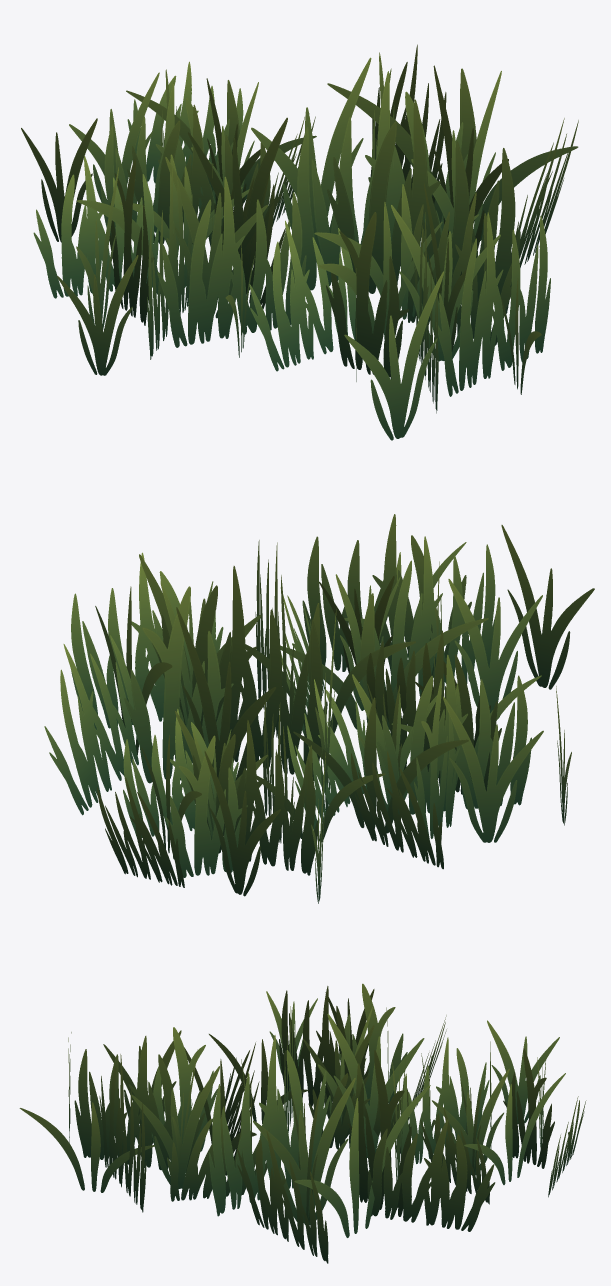
3 views of the same model, one above another, from view 1: azimuth 30°, elevation 25°; view 2: azimuth 150°, elevation 25°; view 3: azimuth 270°, elevation 25° (orthographic). The views are drawn at different scales.
Visible parts, largest first — view 1: pl-grass-tall; view 2: pl-grass-tall; view 3: pl-grass-tall.
Boxes of the visible parts, left/top/right/bottom form: pl-grass-tall: left=21, top=44, right=578, bottom=440; pl-grass-tall: left=44, top=514, right=594, bottom=903; pl-grass-tall: left=19, top=983, right=586, bottom=1263.
Bounding box in the file's own units: 1.81 × 0.7337 × 2.13.
1 material, 1 textured.
